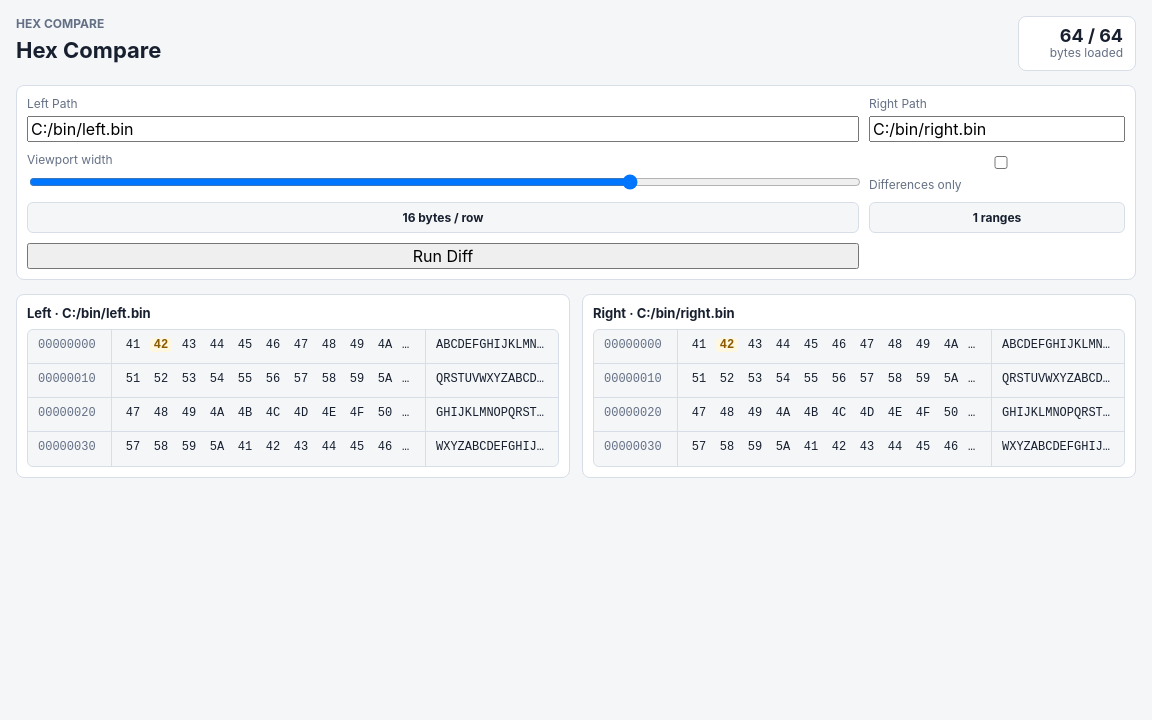
Test: HexCompareView › adjusts bytes per row from the available viewport width
Expected: the text with test id "hex-bytes-per-row" shows "16", x1=402 y1=210 x2=484 y2=225
Set the slider with test id "hex-width-control" to "360". click: (111, 182)
box: x1=29 y1=174 x2=861 y2=190
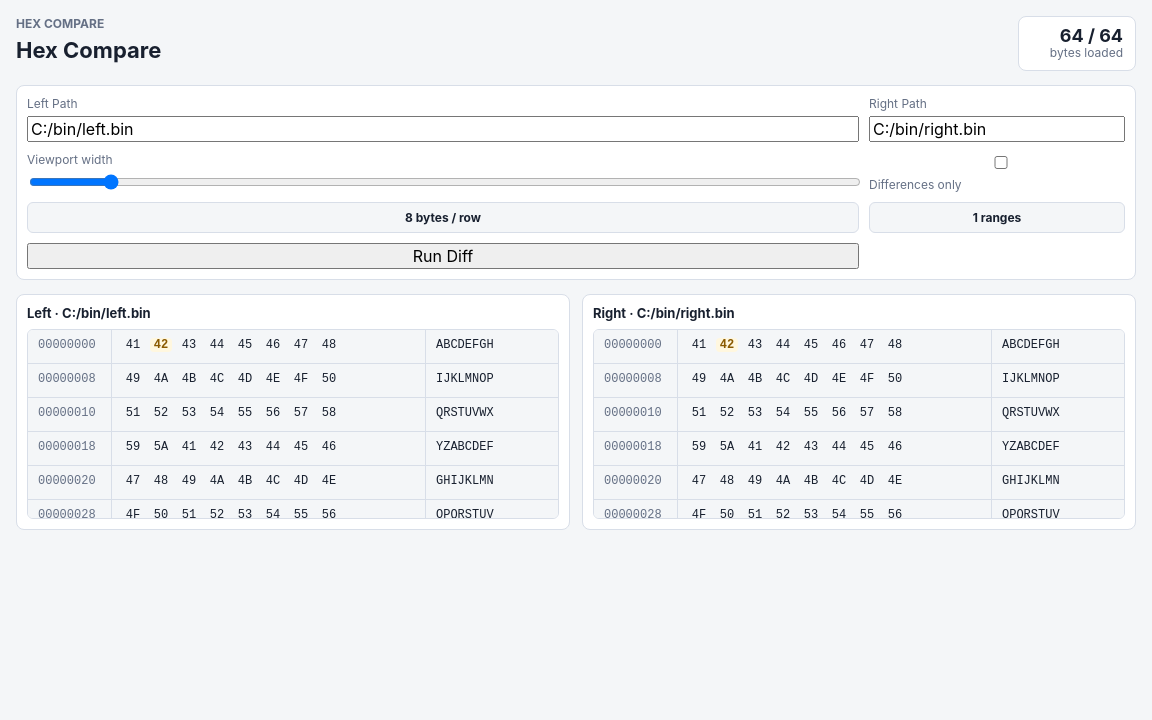
Now the text with test id "hex-bytes-per-row" shows "8", box x1=405 y1=210 x2=481 y2=225
